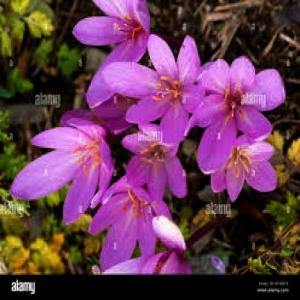Saffron: (105, 35, 207, 140), (192, 56, 288, 160), (12, 120, 111, 215), (76, 2, 157, 108), (200, 137, 280, 201)
